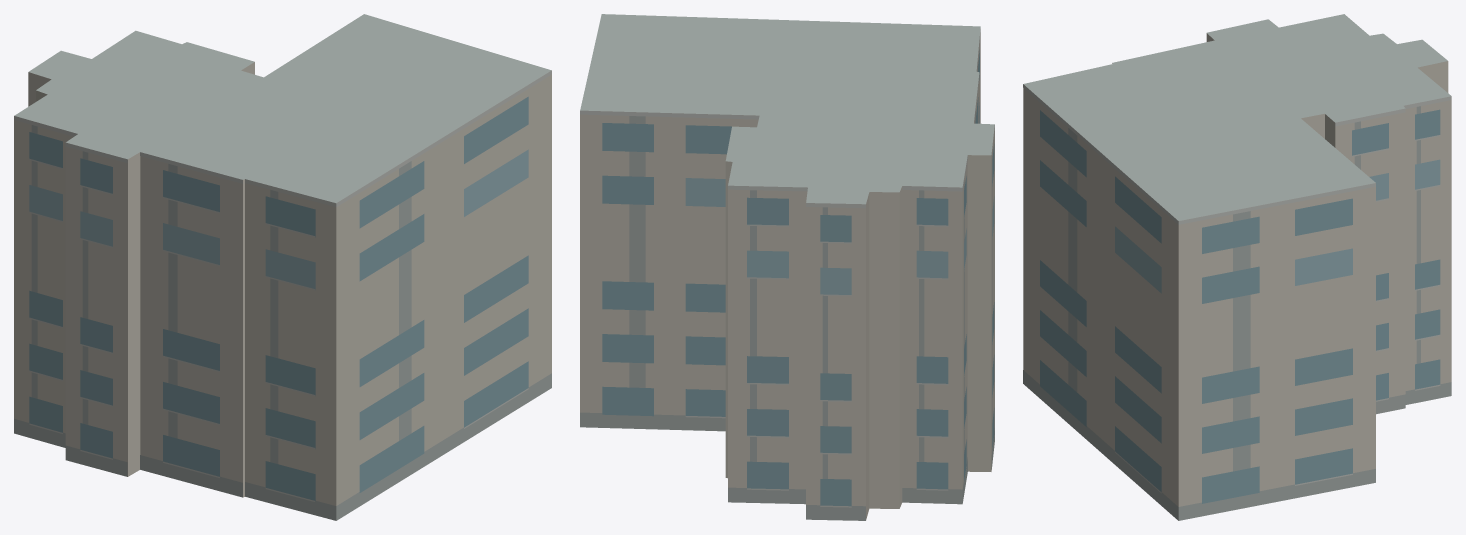
Rendered from survey-upis-32839604.glb.
3 renders of one model, left to right at view 1: azimuth 30°, elevation 25°; view 2: azimuth 150°, elevation 25°; view 3: azimuth 270°, elevation 25°, orthographic. The views are drawn at different scales.
Visible parts, largest first — view 1: survey-upis-32839604.tmp; view 2: survey-upis-32839604.tmp; view 3: survey-upis-32839604.tmp.
Boxes of the visible parts, x1=… form: survey-upis-32839604.tmp: x1=14, y1=14, x2=551, y2=520; survey-upis-32839604.tmp: x1=580, y1=14, x2=994, y2=520; survey-upis-32839604.tmp: x1=1023, y1=14, x2=1451, y2=520.
Size of the model in its own units: 28.47 by 19.2 by 24.89.
